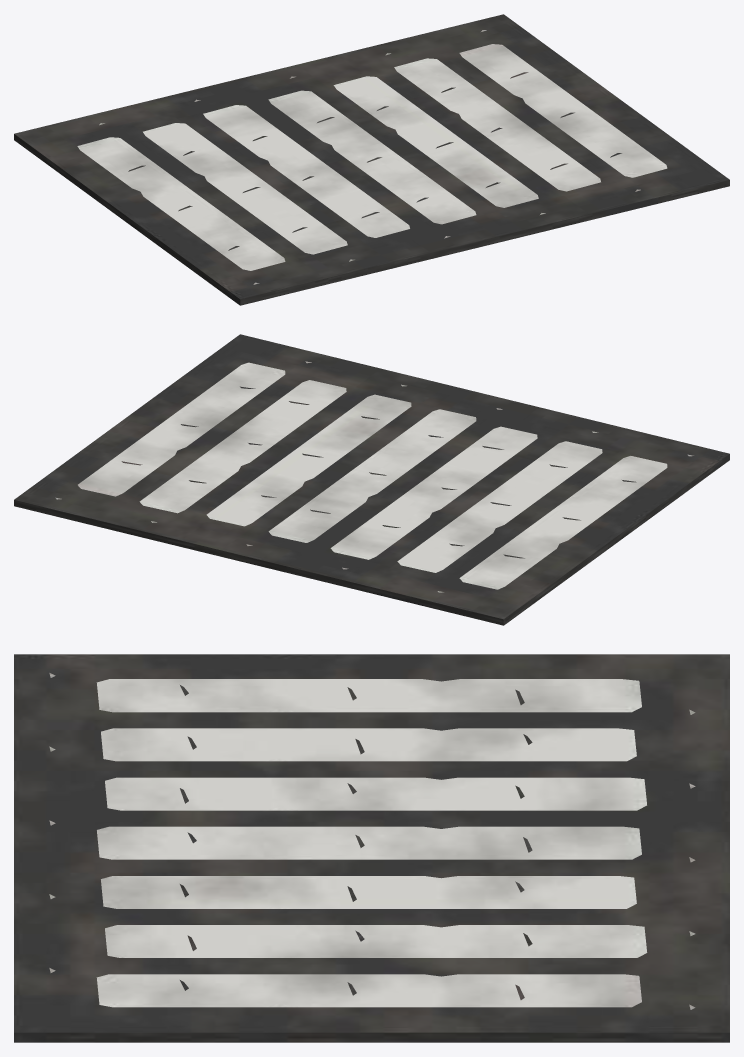
The model's file is RE13_zebra_crossing_flat.glb.
The picture shows the model from 3 angles, top to bottom: view 1: azimuth 30°, elevation 25°; view 2: azimuth 150°, elevation 25°; view 3: azimuth 270°, elevation 25°; orthographic projection. The views are drawn at different scales.
Parts seen in each view (by area): view 1: Crossing_asphalt; view 2: Crossing_asphalt; view 3: Crossing_asphalt.
Boxes of the visible parts, box(x1,y1,x2,y2) form: Crossing_asphalt: box(14, 14, 729, 305); Crossing_asphalt: box(14, 334, 729, 625); Crossing_asphalt: box(14, 654, 729, 1042).
Bounding box in the file's own units: 4 × 0.052 × 3.2.
3 materials, 3 textured.
